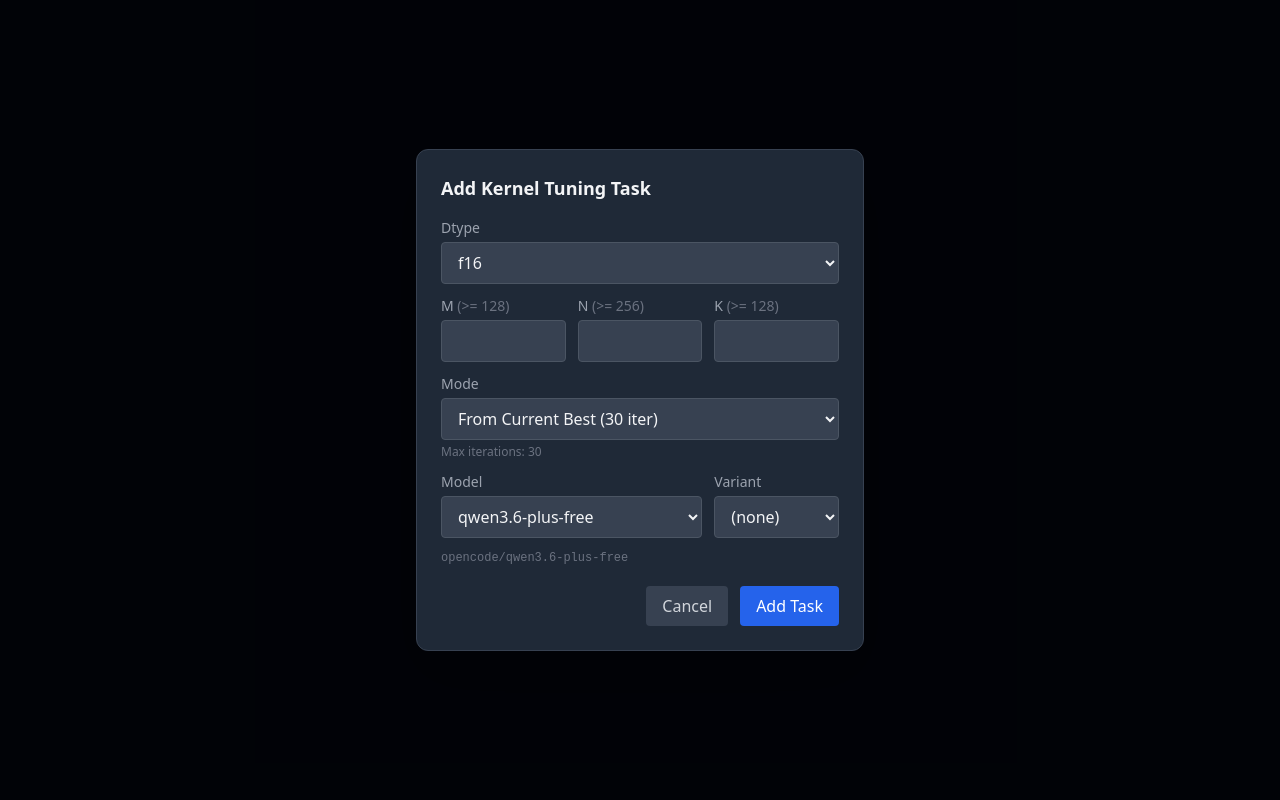
AddTaskForm › shows validation error for M < 128
This screenshot has width=1280, height=800.
Type "64" into the 1st number field. click: (503, 341)
box: x1=441 y1=320 x2=566 y2=362
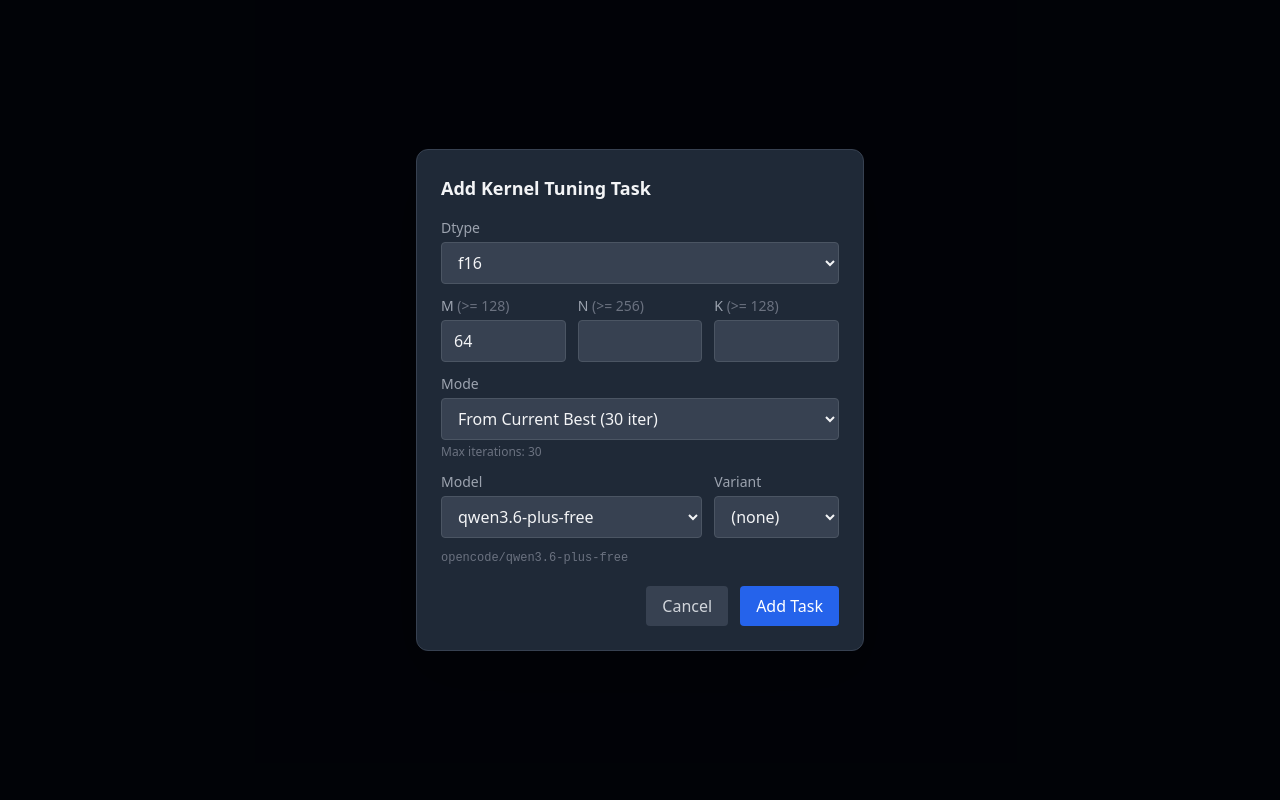
Type "512" into the number field below "256". click: (640, 341)
box: x1=578 y1=320 x2=702 y2=362
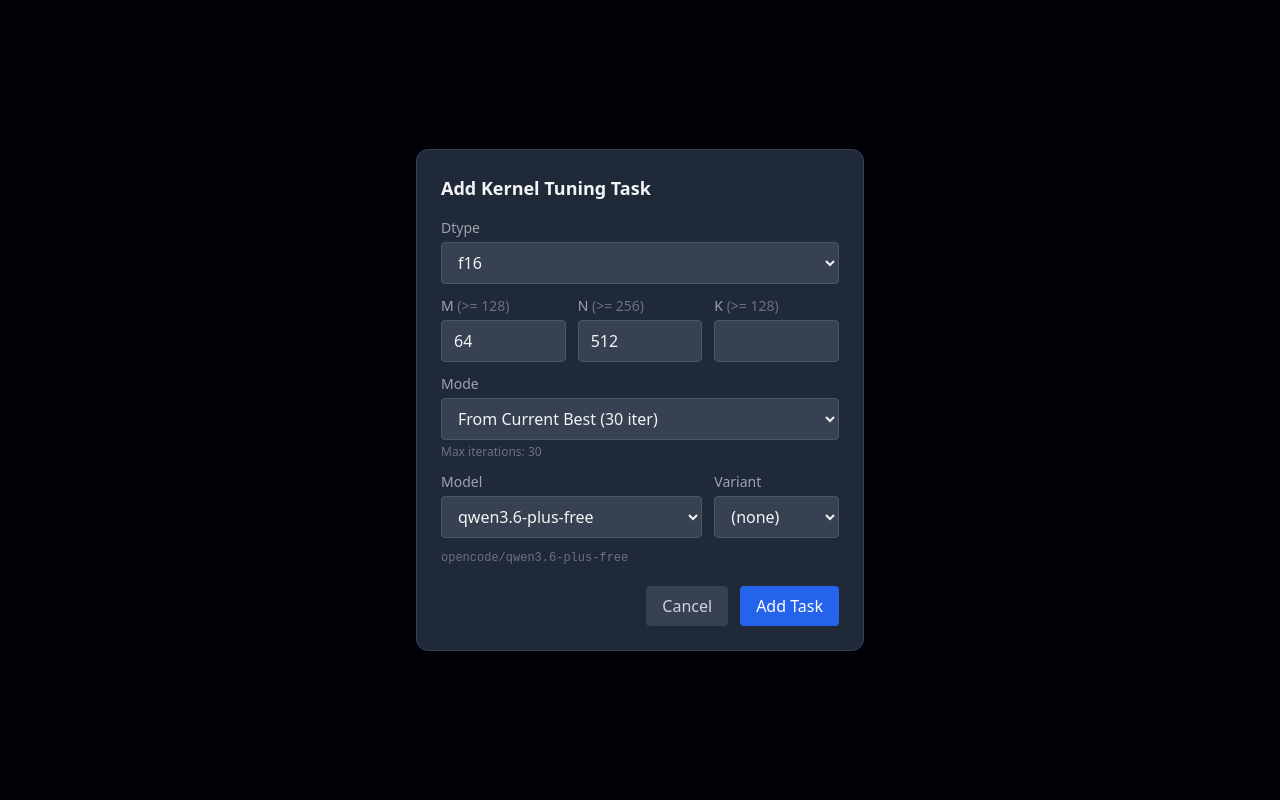
Type "512" into the 3rd number field. click: (777, 341)
box: x1=714 y1=320 x2=839 y2=362
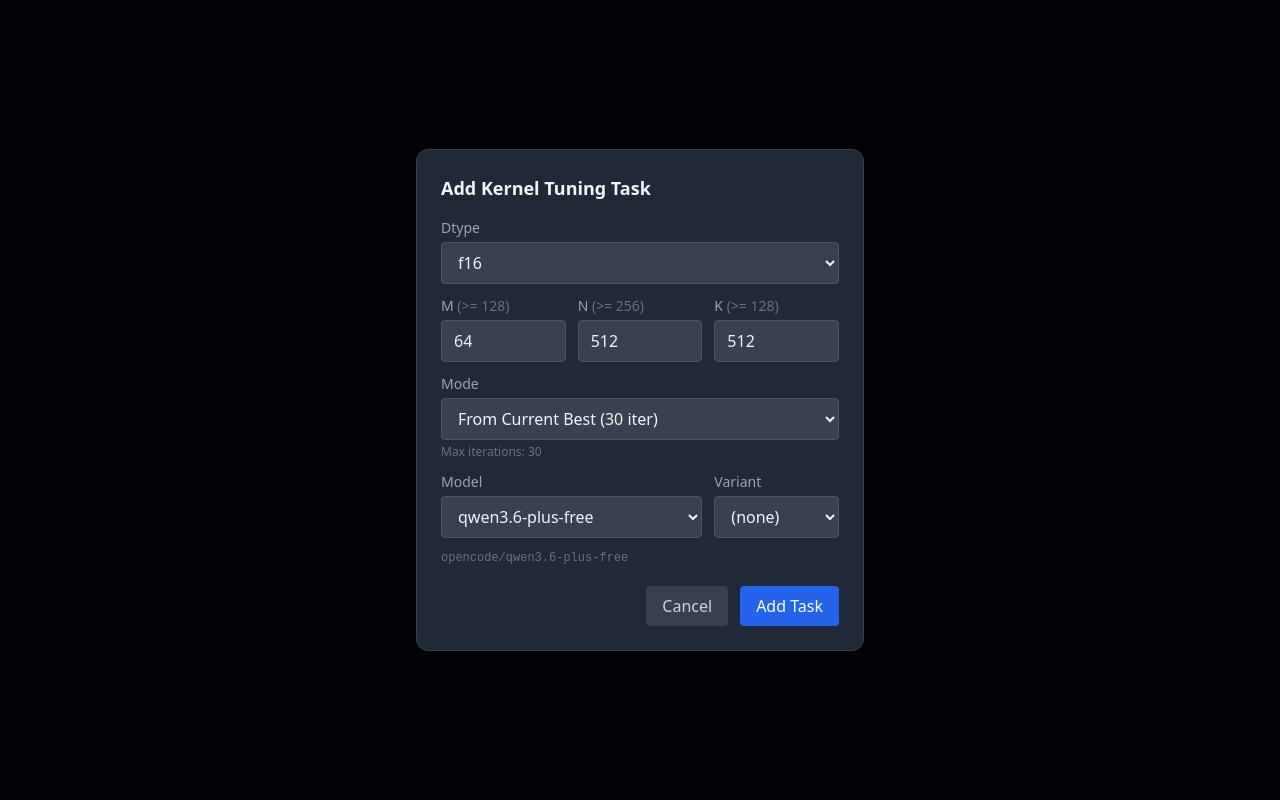
Submit the text "Add Task", box x1=416 y1=149 x2=864 y2=651
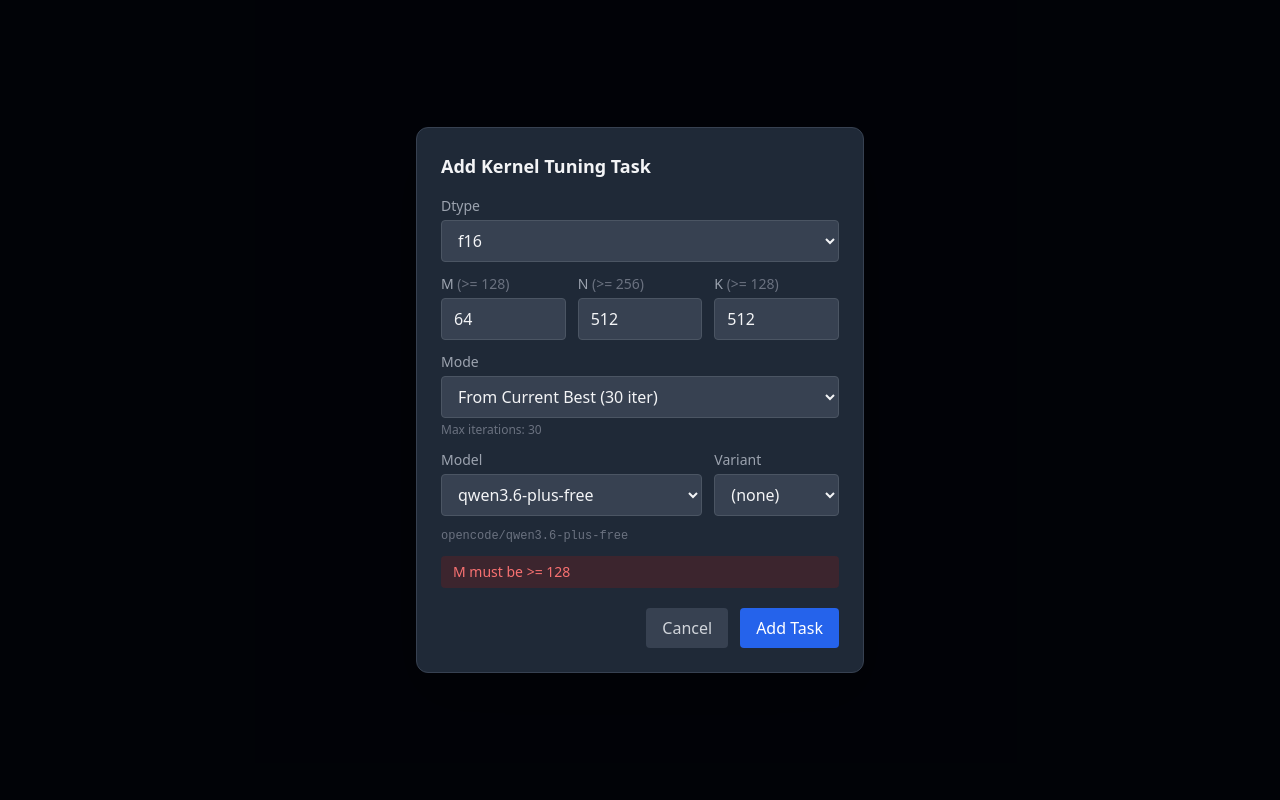
expect the text "M must be >= 128" is shown: met, box x1=441 y1=556 x2=839 y2=588
